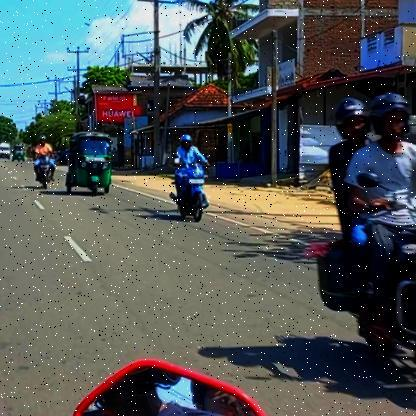motorcycle: (357, 202, 416, 413), (166, 161, 214, 223)
